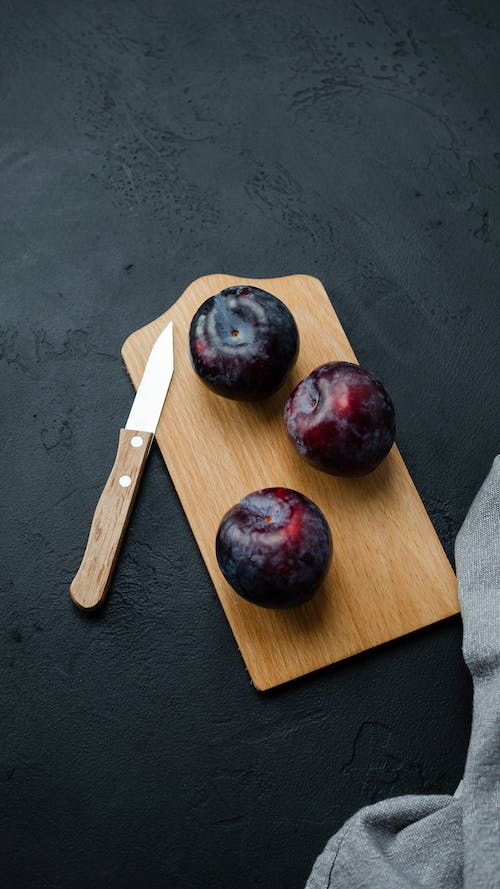knife: (64, 317, 177, 614)
